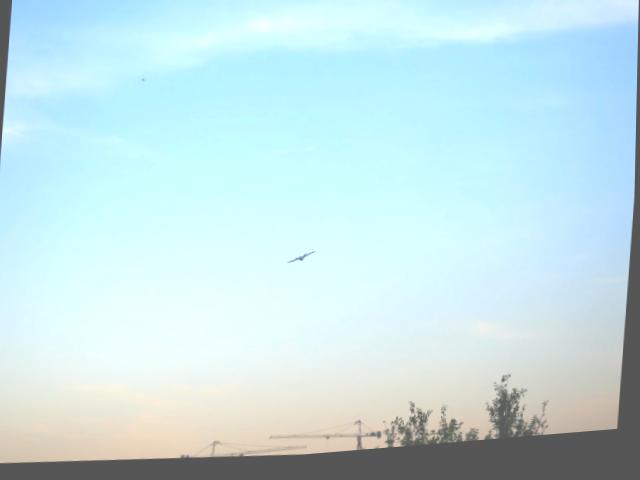plane: (287, 256, 315, 272)
